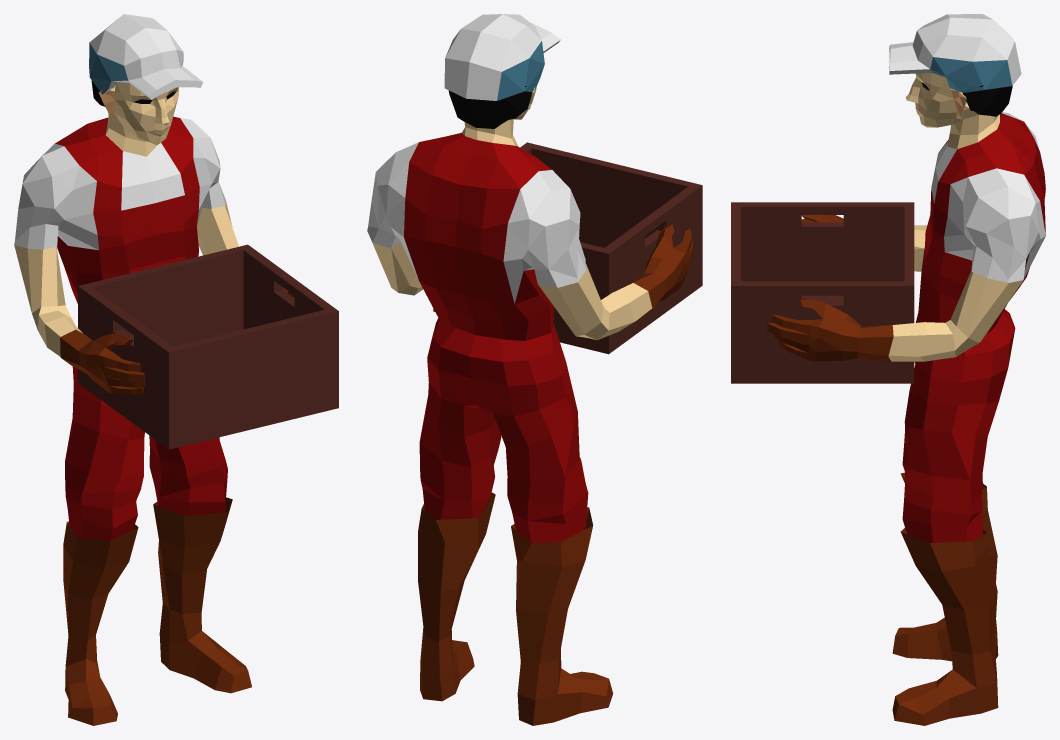
The model's file is Male_pose_06.FBX.
The picture shows the model from 3 angles, left to right: view 1: azimuth 30°, elevation 25°; view 2: azimuth 150°, elevation 25°; view 3: azimuth 270°, elevation 25°; orthographic projection. The views are drawn at different scales.
Parts seen in each view (by area): view 1: Male_pose_06; view 2: Male_pose_06; view 3: Male_pose_06.
Boxes of the visible parts, x1=… form: Male_pose_06: x1=14, y1=14, x2=338, y2=725; Male_pose_06: x1=367, y1=14, x2=702, y2=725; Male_pose_06: x1=731, y1=14, x2=1045, y2=725.
Size of the model in its own units: 0.65 by 1.78 by 0.7625.
Materials: 1 (1 with a texture image).
